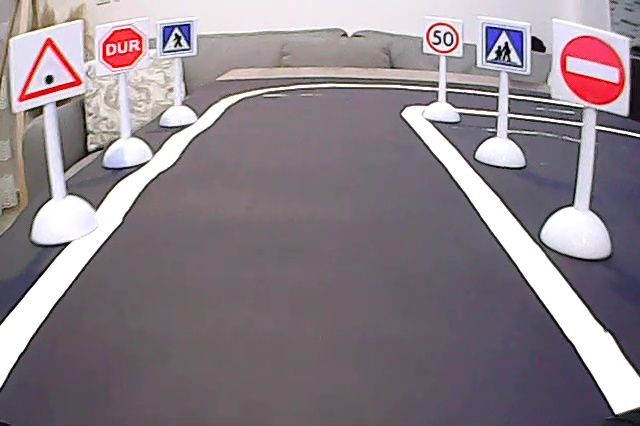do not enter: (557, 22, 627, 108)
green light: (10, 36, 87, 105)
pedestrian crossing: (156, 20, 198, 57)
school crossing: (480, 21, 529, 73)
speed limit 50: (424, 21, 460, 56)
stop sign: (96, 25, 151, 73)
